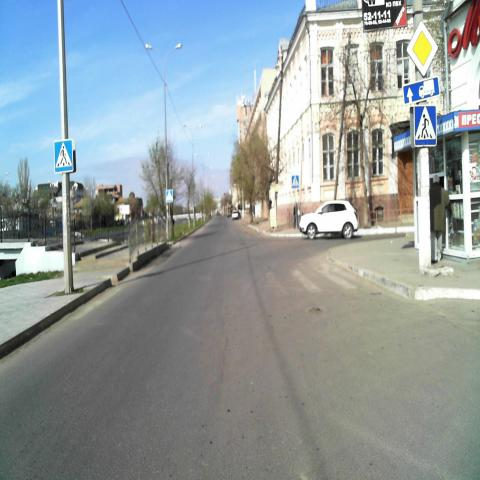6_15_1: (404, 76, 439, 104)
